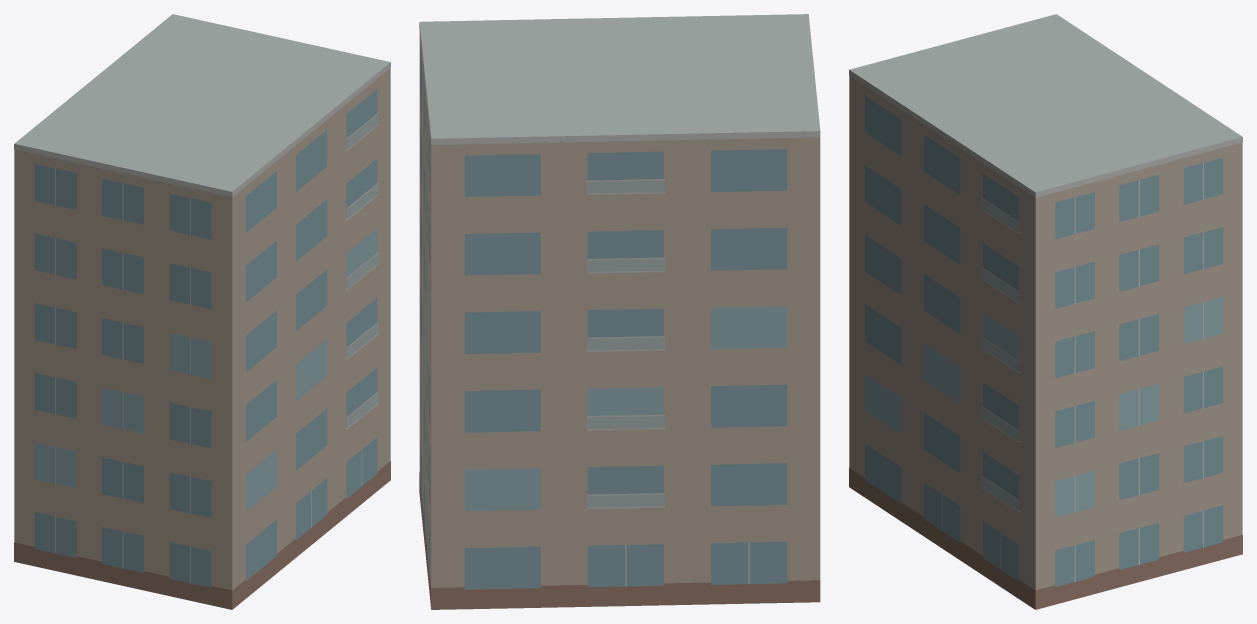
Rendered from survey-upis-32947560.glb.
The picture shows the model from 3 angles, left to right: view 1: azimuth 30°, elevation 25°; view 2: azimuth 150°, elevation 25°; view 3: azimuth 270°, elevation 25°; orthographic projection. The views are drawn at different scales.
Visible parts, largest first — view 1: survey-upis-32947560.tmp; view 2: survey-upis-32947560.tmp; view 3: survey-upis-32947560.tmp.
Boxes of the visible parts, x1,y1,x2,y2 form: survey-upis-32947560.tmp: (14, 14, 390, 609); survey-upis-32947560.tmp: (419, 14, 820, 609); survey-upis-32947560.tmp: (849, 14, 1242, 609).
Bounding box in the file's own units: 16.92 × 18.45 × 15.78.
